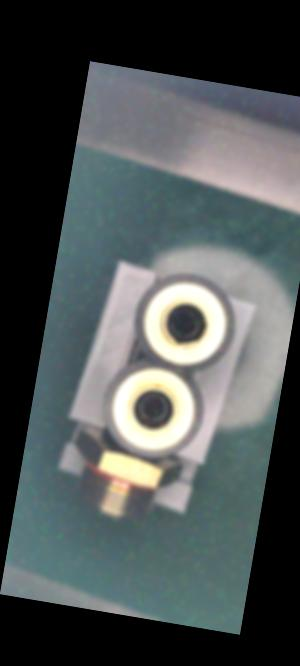off-centered: (161, 302, 207, 345)
